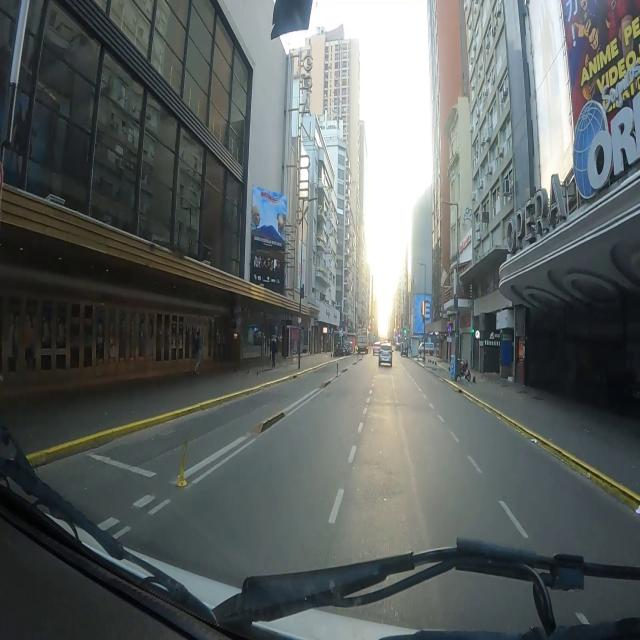car: (379, 343, 392, 366), (401, 341, 409, 356), (373, 342, 380, 355)
